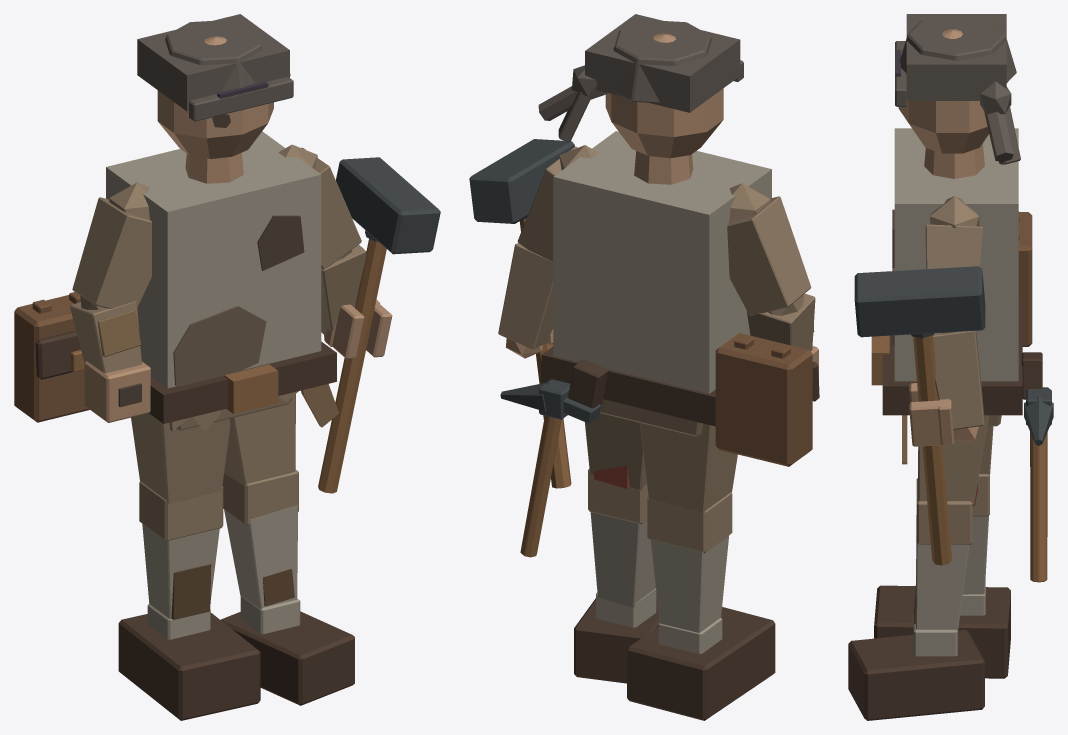
Rendered from chr_f1_worker_pixel_v003.glb.
3 renders of one model, left to right at view 1: azimuth 30°, elevation 25°; view 2: azimuth 150°, elevation 25°; view 3: azimuth 270°, elevation 25°, orthographic.
Visible parts, largest first — view 1: CHR_F1_Worker_V003_Torso, CHR_F1_Worker_V003_Boot_L, CHR_F1_Worker_V003_Boot_R, CHR_F1_Worker_V003_HammerHead, CHR_F1_Worker_V003_Thigh_L, CHR_F1_Worker_V003_UpperArm_L, CHR_F1_Worker_V003_HeadWrap, CHR_F1_Worker_V003_ToolPouch, CHR_F1_Worker_V003_Dirt_Torso_Lower, CHR_F1_Worker_V003_Shin_R, CHR_F1_Worker_V003_Belt, CHR_F1_Worker_V003_Thigh_R (+24 smaller); view 2: CHR_F1_Worker_V003_Torso, CHR_F1_Worker_V003_ToolPouch, CHR_F1_Worker_V003_Boot_L, CHR_F1_Worker_V003_UpperArm_L, CHR_F1_Worker_V003_HeadWrap, CHR_F1_Worker_V003_Thigh_L, CHR_F1_Worker_V003_Shin_L, CHR_F1_Worker_V003_Head, CHR_F1_Worker_V003_HammerHead, CHR_F1_Worker_V003_Shin_R, CHR_F1_Worker_V003_Forearm_R, CHR_F1_Worker_V003_Belt (+22 smaller); view 3: CHR_F1_Worker_V003_Torso, CHR_F1_Worker_V003_Boot_R, CHR_F1_Worker_V003_HammerHead, CHR_F1_Worker_V003_Boot_L, CHR_F1_Worker_V003_HeadWrap, CHR_F1_Worker_V003_Forearm_R, CHR_F1_Worker_V003_Head, CHR_F1_Worker_V003_Headscarf_Crown, CHR_F1_Worker_V003_Shin_R, CHR_F1_Worker_V003_HammerHandle, CHR_F1_Worker_V003_Belt, CHR_F1_Worker_V003_Thigh_R (+22 smaller).
Boxes of the visible parts, box(x1,y1,x2,y2) form: CHR_F1_Worker_V003_Torso: box(106, 131, 321, 388); CHR_F1_Worker_V003_Boot_L: box(118, 612, 260, 720); CHR_F1_Worker_V003_Boot_R: box(221, 611, 354, 705); CHR_F1_Worker_V003_HammerHead: box(336, 157, 440, 254); CHR_F1_Worker_V003_Thigh_L: box(131, 413, 230, 503); CHR_F1_Worker_V003_UpperArm_L: box(72, 197, 151, 308); CHR_F1_Worker_V003_HeadWrap: box(137, 14, 289, 111); CHR_F1_Worker_V003_ToolPouch: box(14, 295, 89, 422); CHR_F1_Worker_V003_Dirt_Torso_Lower: box(173, 306, 266, 385); CHR_F1_Worker_V003_Shin_R: box(224, 505, 297, 609); CHR_F1_Worker_V003_Belt: box(149, 341, 336, 423); CHR_F1_Worker_V003_Thigh_R: box(224, 394, 295, 485); CHR_F1_Worker_V003_Torso: box(553, 131, 771, 393); CHR_F1_Worker_V003_ToolPouch: box(715, 333, 812, 466); CHR_F1_Worker_V003_Boot_L: box(627, 607, 775, 720); CHR_F1_Worker_V003_UpperArm_L: box(727, 196, 811, 316); CHR_F1_Worker_V003_HeadWrap: box(585, 14, 740, 112); CHR_F1_Worker_V003_Thigh_L: box(639, 423, 737, 512); CHR_F1_Worker_V003_Shin_L: box(650, 535, 729, 632); CHR_F1_Worker_V003_Head: box(605, 33, 723, 158); CHR_F1_Worker_V003_HammerHead: box(469, 139, 574, 223); CHR_F1_Worker_V003_Shin_R: box(590, 512, 655, 607); CHR_F1_Worker_V003_Forearm_R: box(498, 243, 553, 349); CHR_F1_Worker_V003_Belt: box(541, 346, 715, 426); CHR_F1_Worker_V003_Torso: box(894, 128, 1018, 381); CHR_F1_Worker_V003_Boot_R: box(848, 629, 984, 720); CHR_F1_Worker_V003_HammerHead: box(854, 266, 985, 337); CHR_F1_Worker_V003_Boot_L: box(874, 585, 1010, 678); CHR_F1_Worker_V003_HeadWrap: box(906, 14, 1006, 100); CHR_F1_Worker_V003_Forearm_R: box(933, 330, 984, 429); CHR_F1_Worker_V003_Head: box(898, 29, 989, 153); CHR_F1_Worker_V003_Headscarf_Crown: box(899, 14, 1016, 97); CHR_F1_Worker_V003_Shin_R: box(916, 515, 969, 631); CHR_F1_Worker_V003_HammerHandle: box(913, 335, 951, 565); CHR_F1_Worker_V003_Belt: box(882, 301, 1022, 415); CHR_F1_Worker_V003_Thigh_R: box(918, 415, 989, 504).
Size of the model in its own units: 0.9998 by 1.78 by 0.5145.
